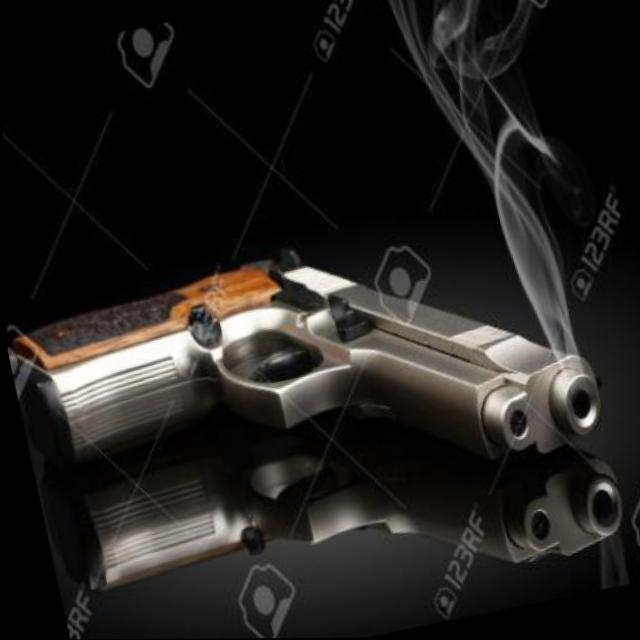weapon: (3, 184, 633, 579)
